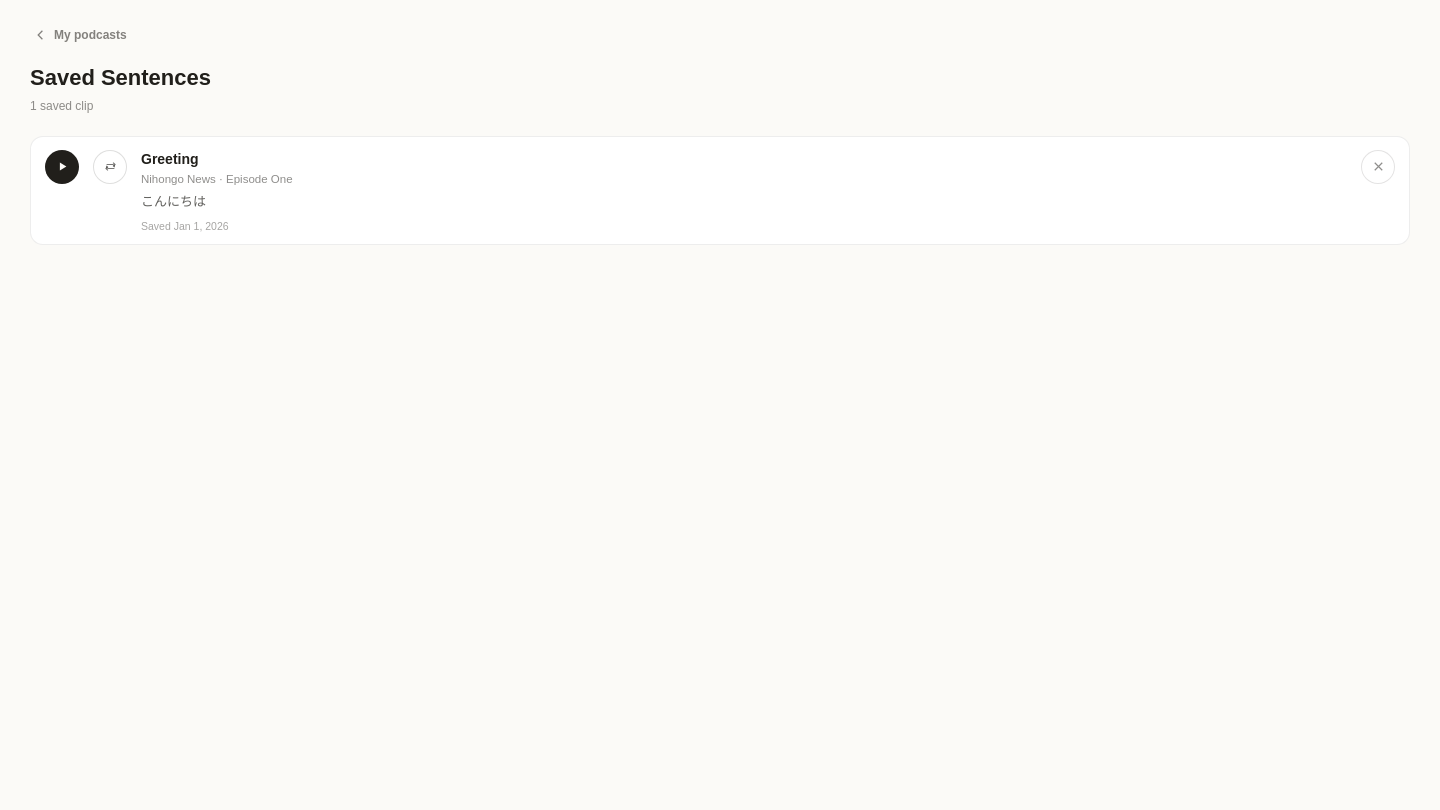
SavedSentences › deletes a clip and refreshes the list
The width and height of the screenshot is (1440, 810).
Click the button with test id "delete-saved-sentence-1" at x=1378, y=166, box [1361,150,1395,184]
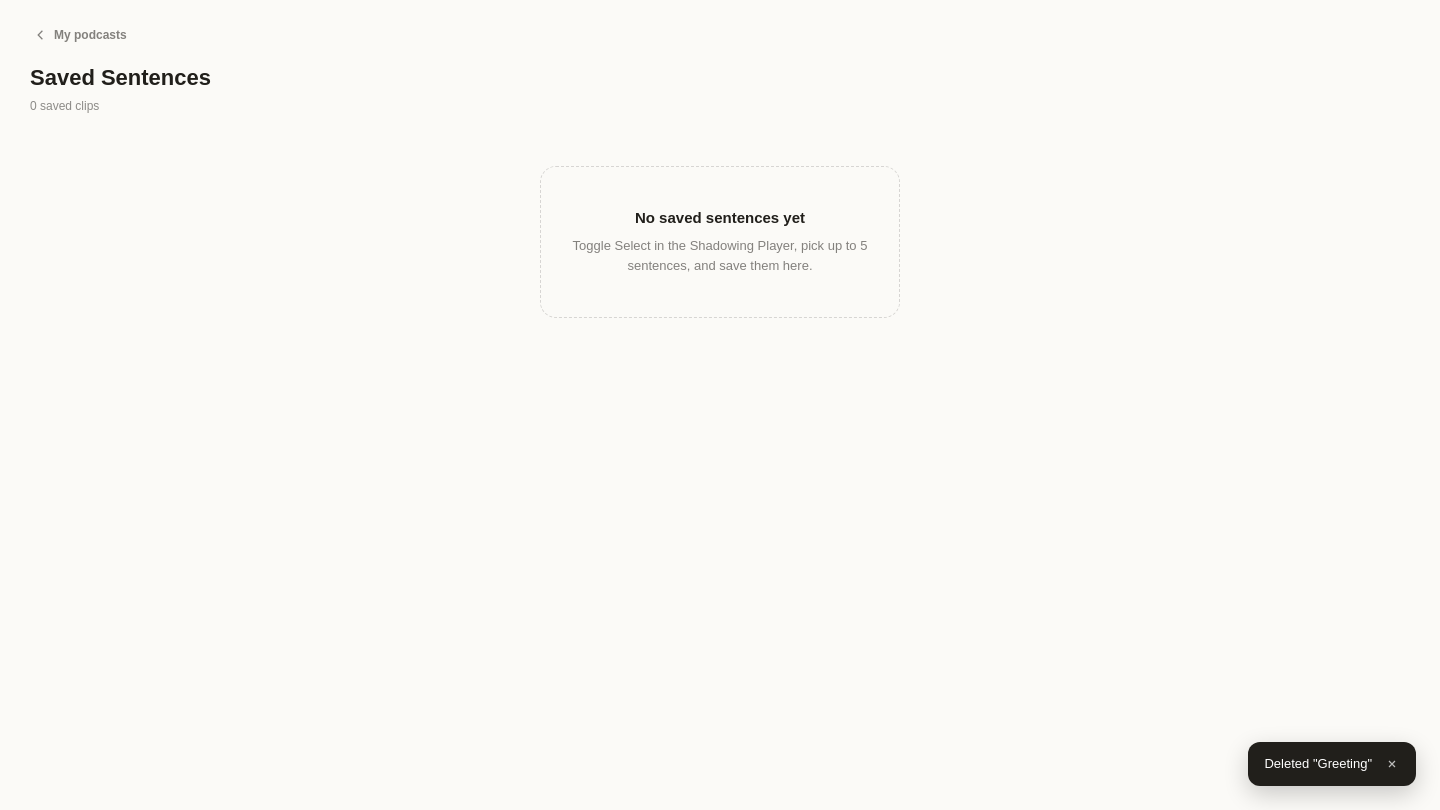
Now the text "Deleted \"Greeting\"" is shown, box [1264,755,1372,773]
Now the text "No saved sentences yet" is shown, box [635,208,805,226]
